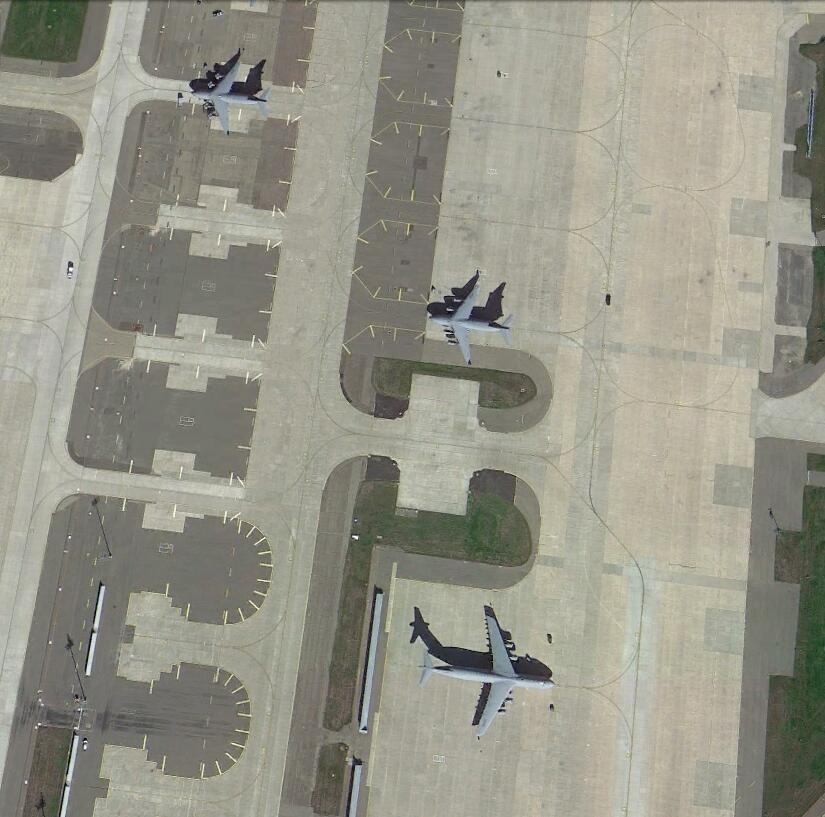A3: (428, 281, 513, 364), (188, 60, 270, 139)
A4: (418, 610, 555, 737)
